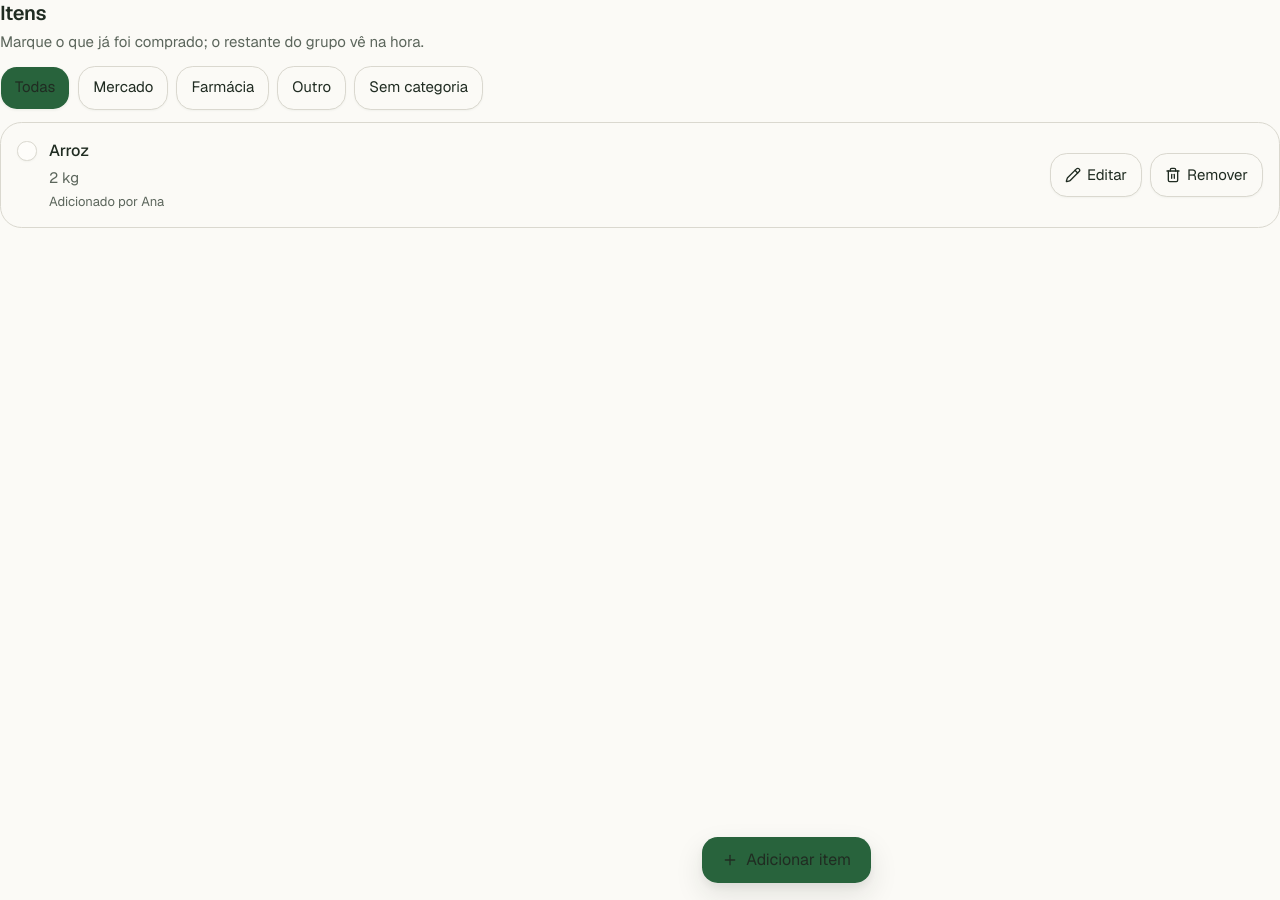
ListItemsPanel › opens edit and delete dialogs for existing items
Expected: the text "2 kg" is shown, 49,166 -> 79,189
Expected: the text "Adicionado por Ana" is shown, 49,193 -> 164,211
Click the button "Editar": (1096, 175) 1050,153 -> 1142,197
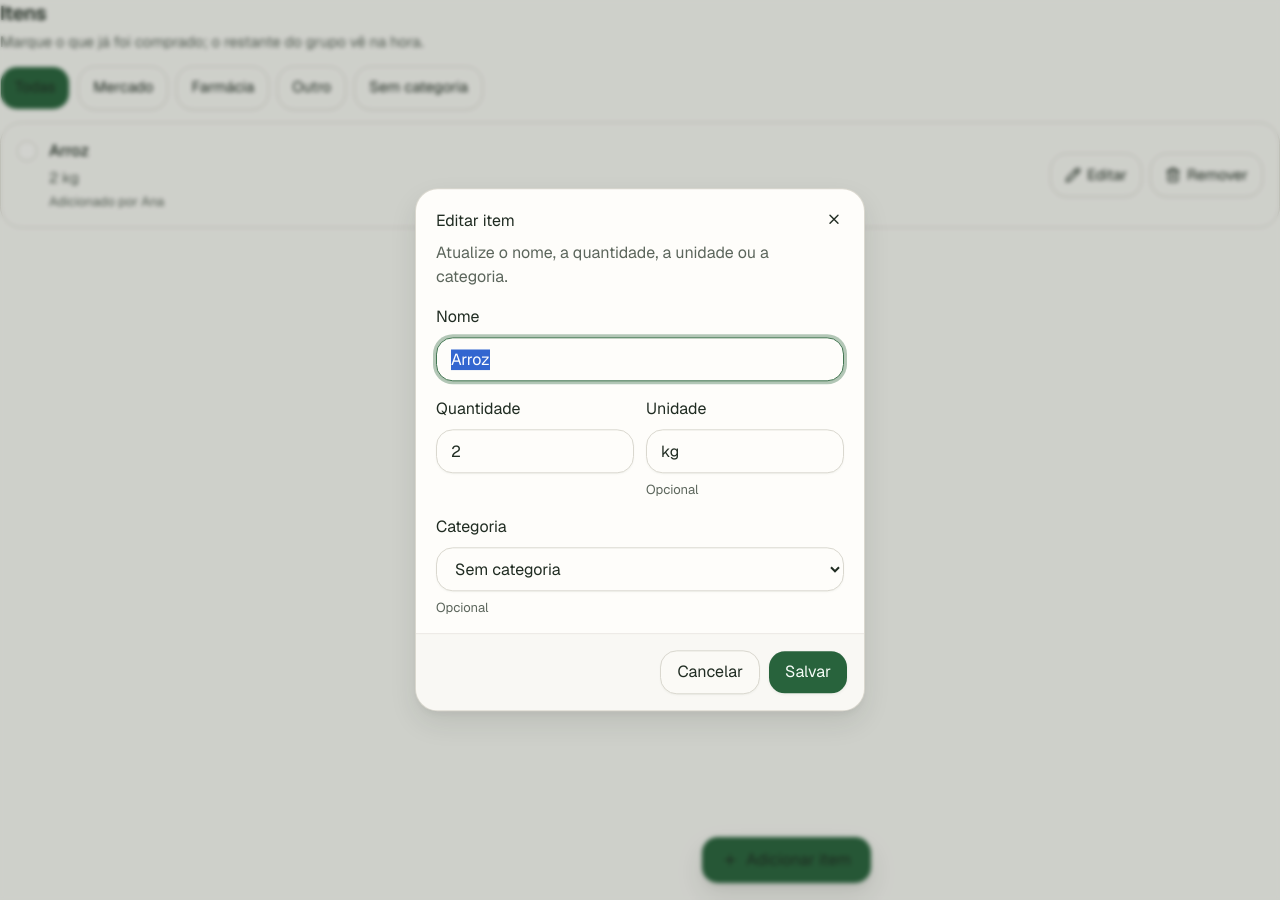
Result: the heading "Editar item" is shown at 436,210 -> 515,231
Click the button "Cancelar": (710, 673) 660,651 -> 760,695
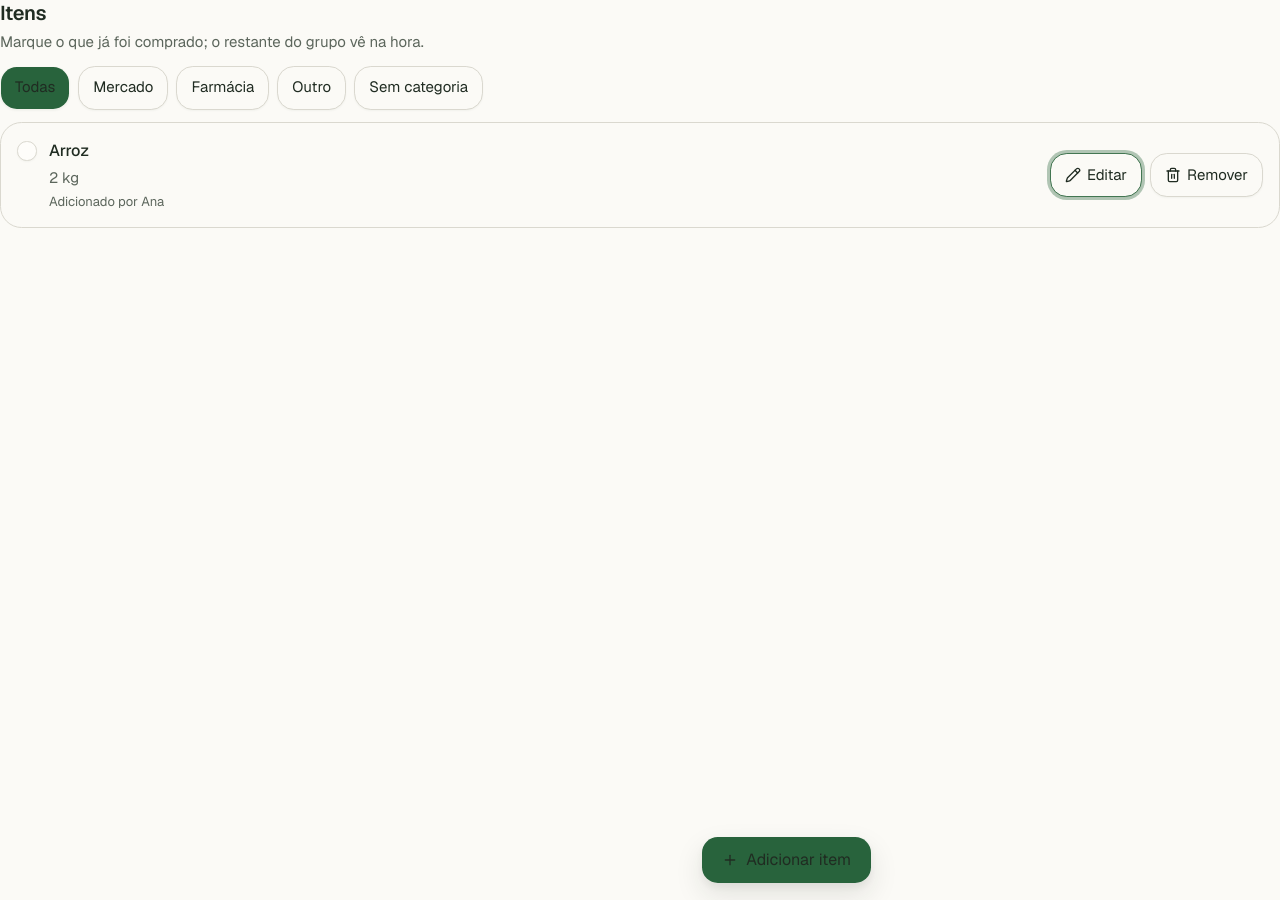
Click the button "Remover": (1206, 175) 1150,153 -> 1263,197
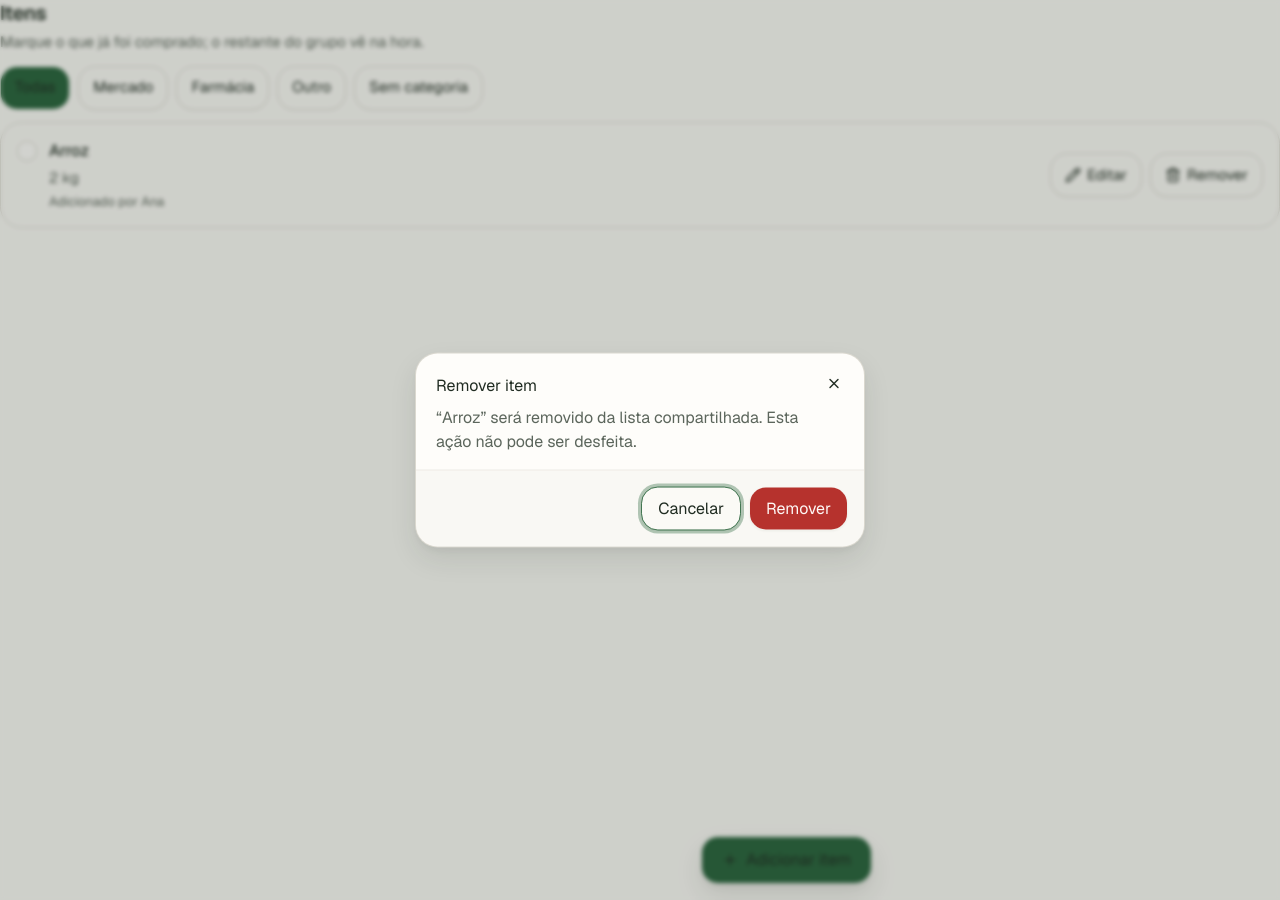
Result: the heading "Remover item" is shown at 436,374 -> 537,396
